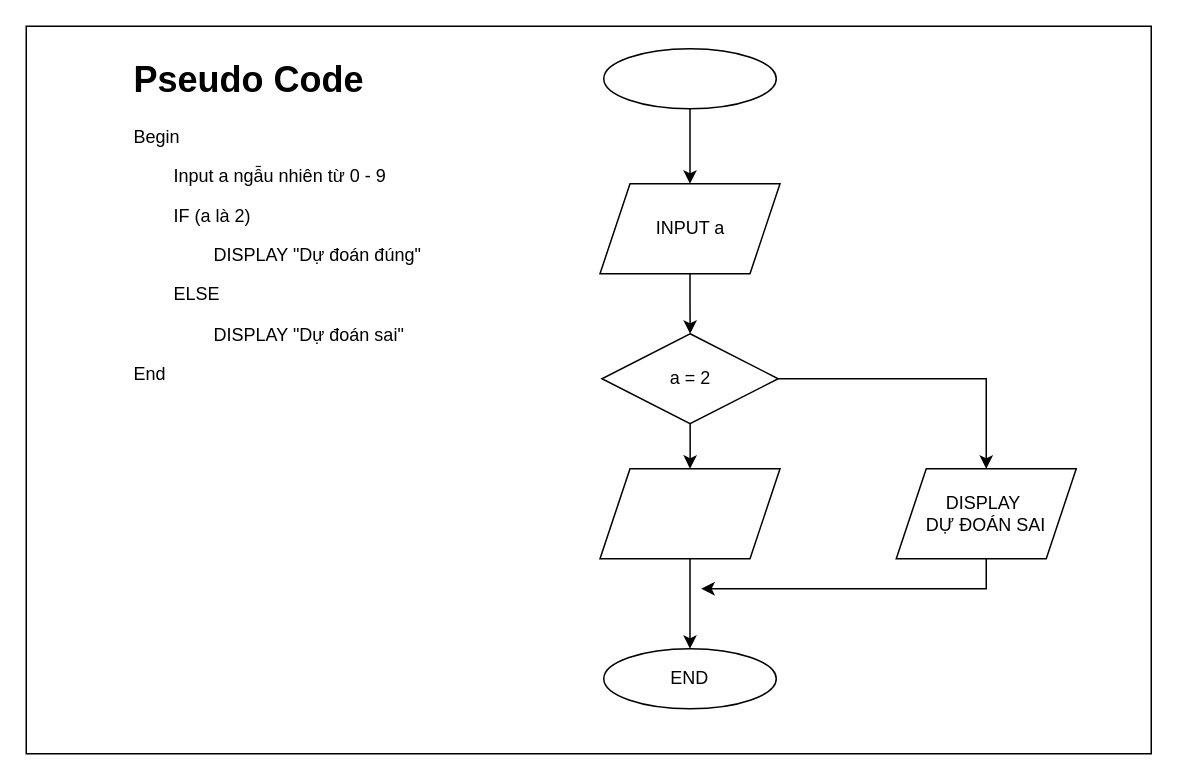
Some shapes in this 1178 by 780 pixel diagram are drawn without their labels. The centre of each missing label's shape, as x and y in pixels:
"BEGIN" belongs at (689,78).
"DISPLAY DỰ ĐOÁN ĐÚNG" belongs at (689,513).
